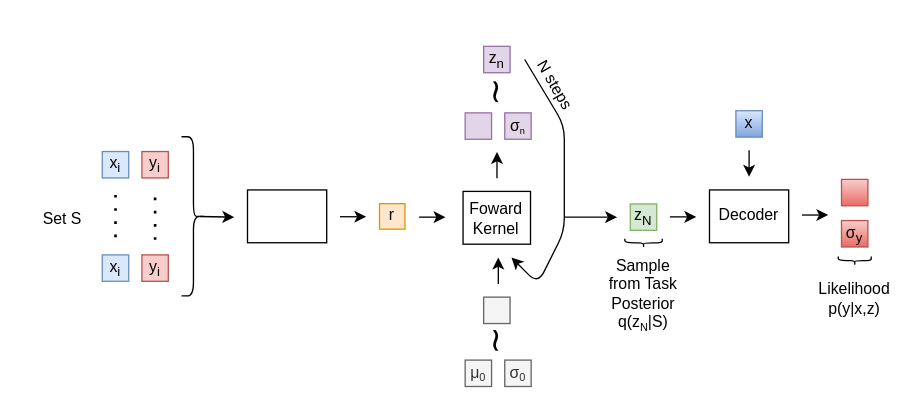
The diagram is 916 pixels wide and 411 high, and some of its shapes have lost their labels. The box of each missing label's shape, as (x1, y1, x2, y2) in pixels:
Set Encoder: (246, 189, 327, 243)
z 0: (482, 296, 510, 324)
μ n: (464, 112, 492, 139)
μ y: (840, 178, 868, 206)
